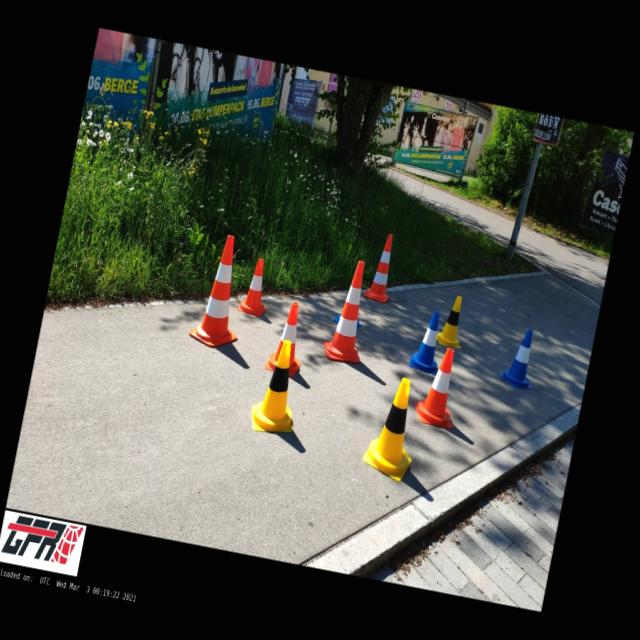blue_cone: (496, 324, 544, 392), (408, 308, 448, 375), (332, 313, 363, 329)
large_orange_cone: (188, 232, 255, 351), (322, 257, 378, 364), (363, 232, 401, 304)
orange_cone: (411, 344, 468, 429), (263, 300, 312, 378), (236, 256, 276, 318)
yellow_cone: (359, 373, 426, 483), (248, 336, 308, 438), (435, 293, 471, 349)
